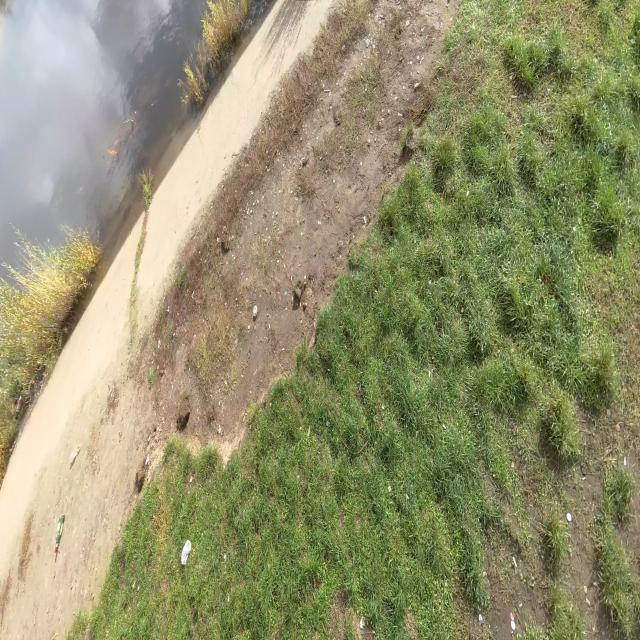rubbish: (55, 512, 66, 555), (180, 539, 193, 568), (253, 306, 257, 320)
